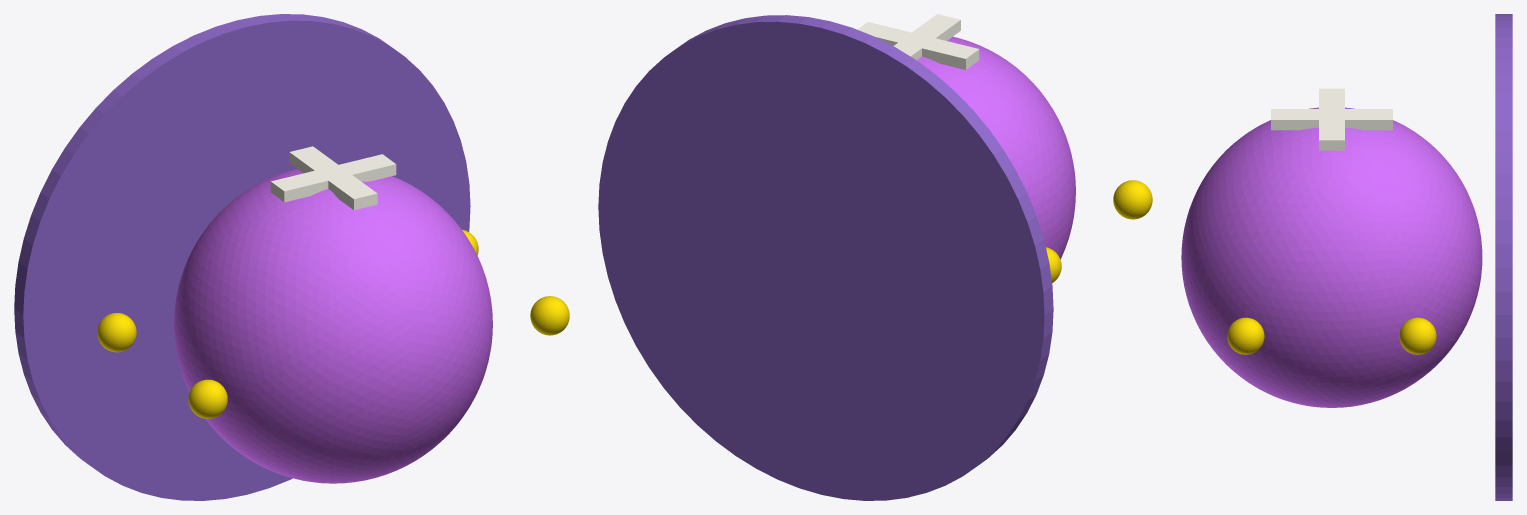
Rendered from modelo.glb.
3 renders of one model, left to right at view 1: azimuth 30°, elevation 25°; view 2: azimuth 150°, elevation 25°; view 3: azimuth 270°, elevation 25°, orthographic. The views are drawn at different scales.
Parts seen in each view (by area): view 1: base, ion, sinal_horizontal, sinal_vertical, eletron_1, eletron_0, eletron_2; view 2: base, ion, sinal_horizontal, sinal_vertical, eletron_0; view 3: ion, base, sinal_vertical, sinal_horizontal, eletron_1, eletron_3.
Boxes of the visible parts, x1,y1,x2,y2 form: base: (14, 14, 470, 500); ion: (174, 169, 492, 483); sinal_horizontal: (270, 154, 396, 202); sinal_vertical: (289, 146, 377, 210); eletron_1: (530, 296, 569, 335); eletron_0: (188, 379, 227, 418); eletron_2: (97, 313, 136, 352); base: (598, 15, 1053, 500); ion: (917, 36, 1075, 259); sinal_horizontal: (857, 22, 979, 69); sinal_vertical: (893, 14, 960, 60); eletron_0: (1113, 180, 1152, 219); ion: (1181, 107, 1482, 407); base: (1495, 14, 1512, 500); sinal_vertical: (1271, 109, 1392, 130); sinal_horizontal: (1319, 88, 1344, 150); eletron_1: (1227, 317, 1264, 354); eletron_3: (1399, 317, 1436, 354).
Bounding box in the file's own units: 0.34 × 0.34 × 0.231.
